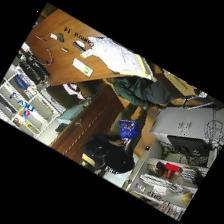person: (78, 102, 147, 173), (106, 75, 174, 108)
